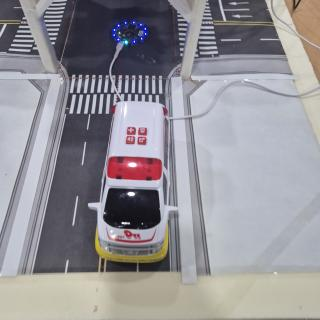Ambulance: (88, 101, 177, 263)
